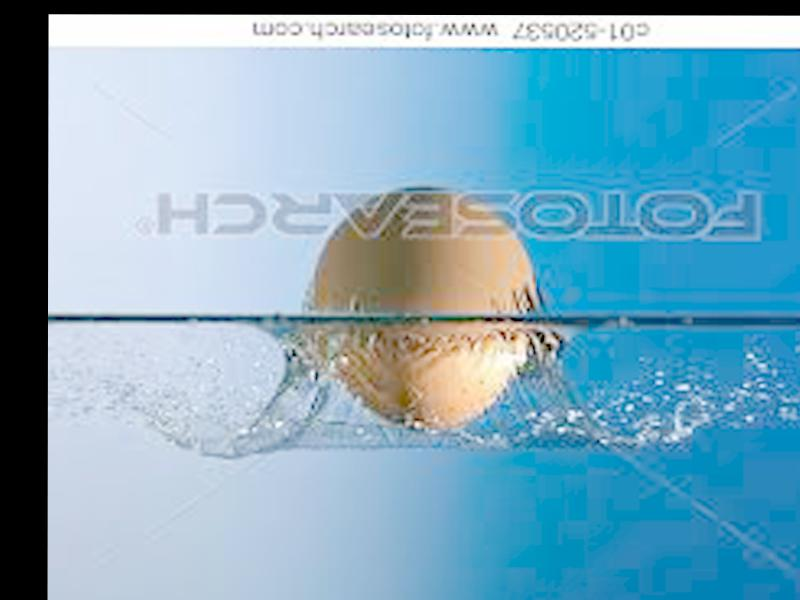Eggs: (310, 189, 535, 433)
